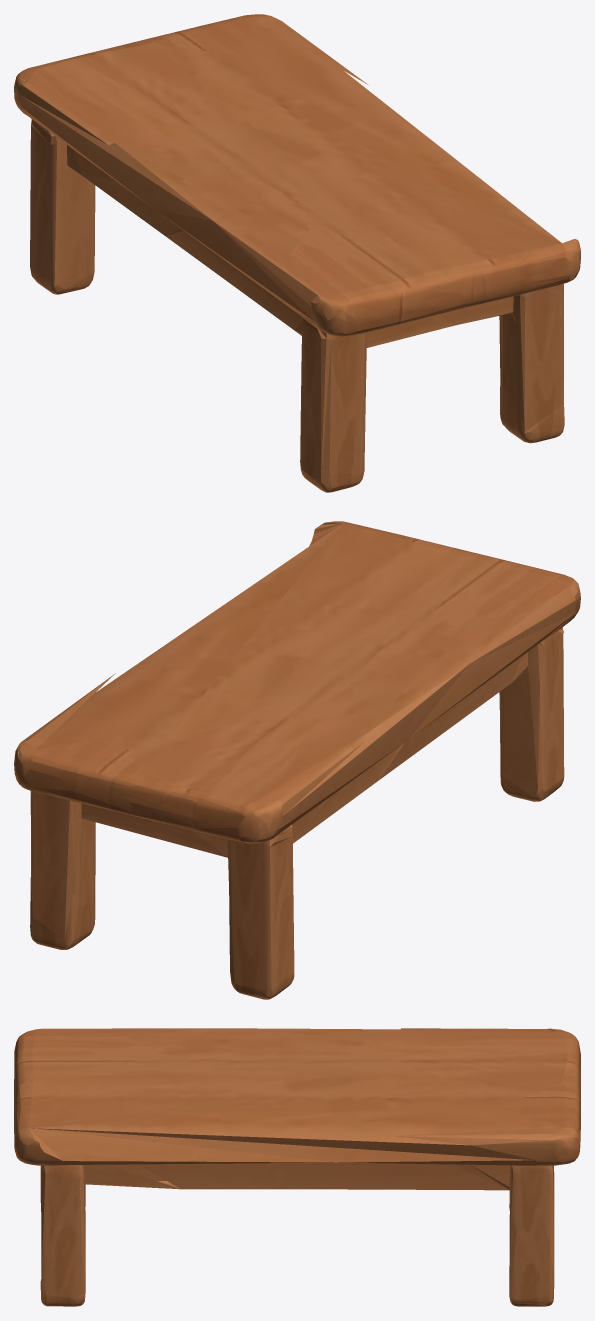
Rendered from table-basic.glb.
The picture shows the model from 3 angles, top to bottom: view 1: azimuth 30°, elevation 25°; view 2: azimuth 150°, elevation 25°; view 3: azimuth 270°, elevation 25°; orthographic projection. The views are drawn at different scales.
Parts seen in each view (by area): view 1: table-basic-fit; view 2: table-basic-fit; view 3: table-basic-fit.
Part boxes in pixels (x1,y1,x2,y2): table-basic-fit: (14, 14, 580, 492); table-basic-fit: (14, 521, 580, 999); table-basic-fit: (14, 1028, 580, 1306).
Size of the model in its own units: 1 by 0.742 by 2.15.
1 material, 1 textured.
